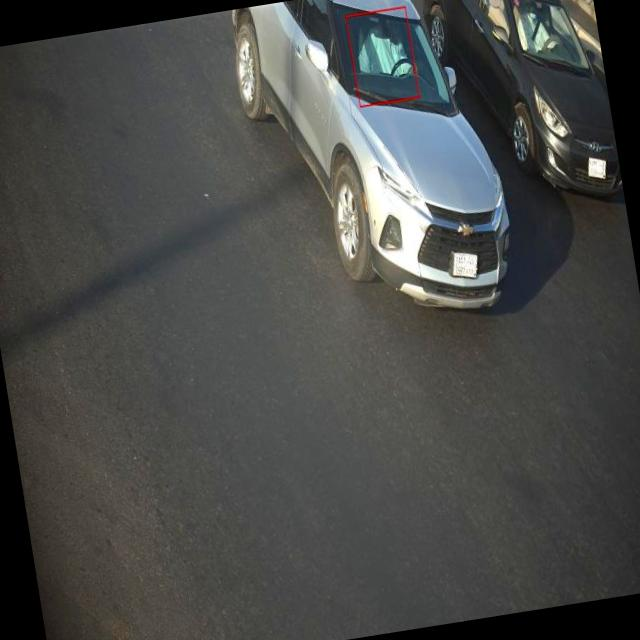person_with_seatbelt: (515, 0, 576, 62)
person_without_seatbelt: (355, 6, 422, 96)
